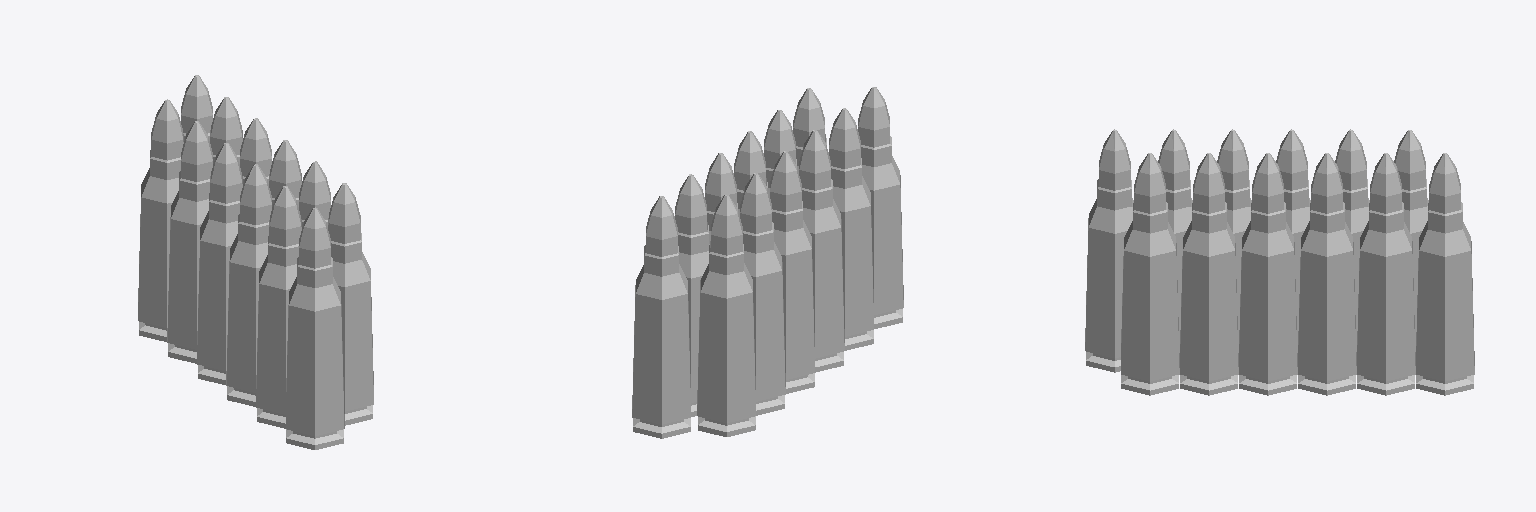
The model's file is MGPickup.obj.
3 views of the same model, side by side, from view 1: azimuth 30°, elevation 25°; view 2: azimuth 150°, elevation 25°; view 3: azimuth 270°, elevation 25° (orthographic).
Visible parts, largest first — view 1: MGPickup_Plane.005; view 2: MGPickup_Plane.005; view 3: MGPickup_Plane.005.
Boxes of the visible parts, x1,y1,x2,y2 form: MGPickup_Plane.005: [138, 75, 373, 449]; MGPickup_Plane.005: [632, 87, 903, 438]; MGPickup_Plane.005: [1085, 129, 1474, 395].
Bounding box in the file's own units: 0.2651 × 0.5444 × 0.8419.